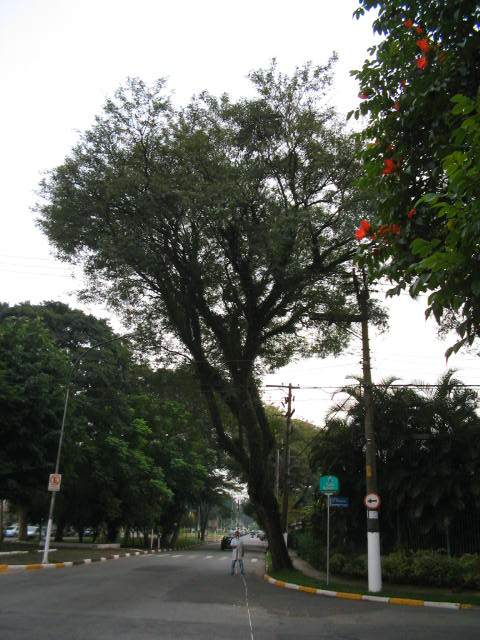crown: (35, 55, 396, 380)
stem: (240, 471, 307, 571)
tree: (32, 53, 399, 572)
